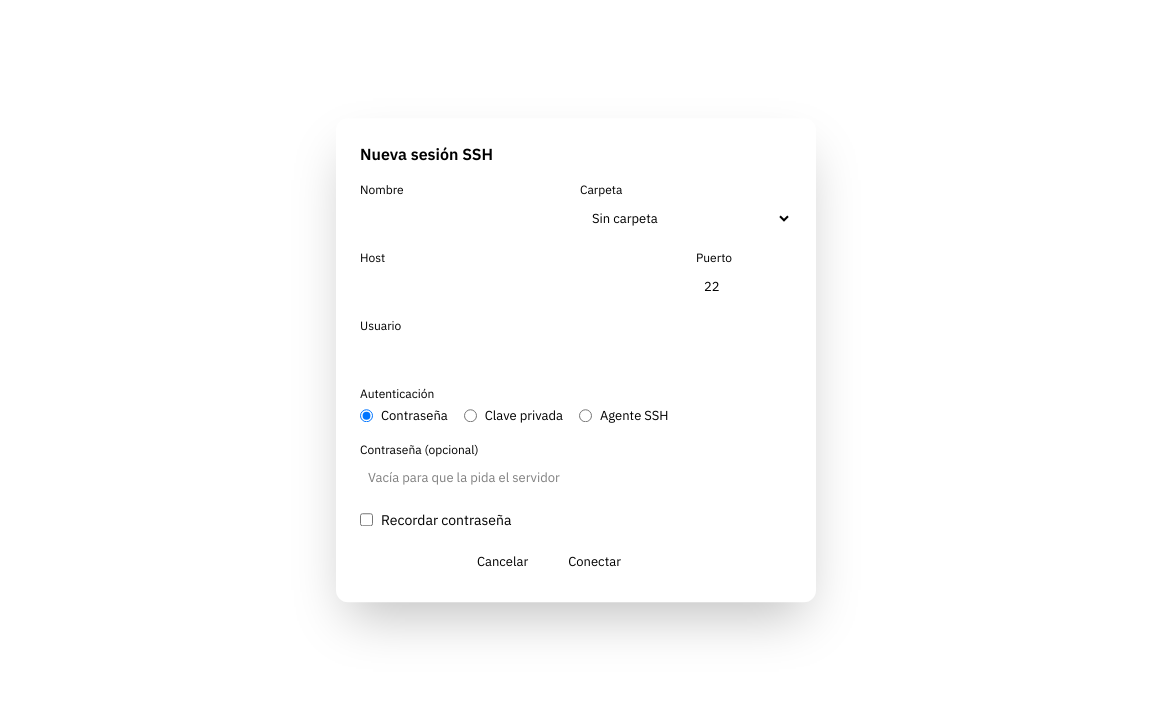
Test: ConnectDialog › shows every error and focuses the first invalid field when connecting too early
Click the button "Conectar": (595,562) [552,546,637,578]
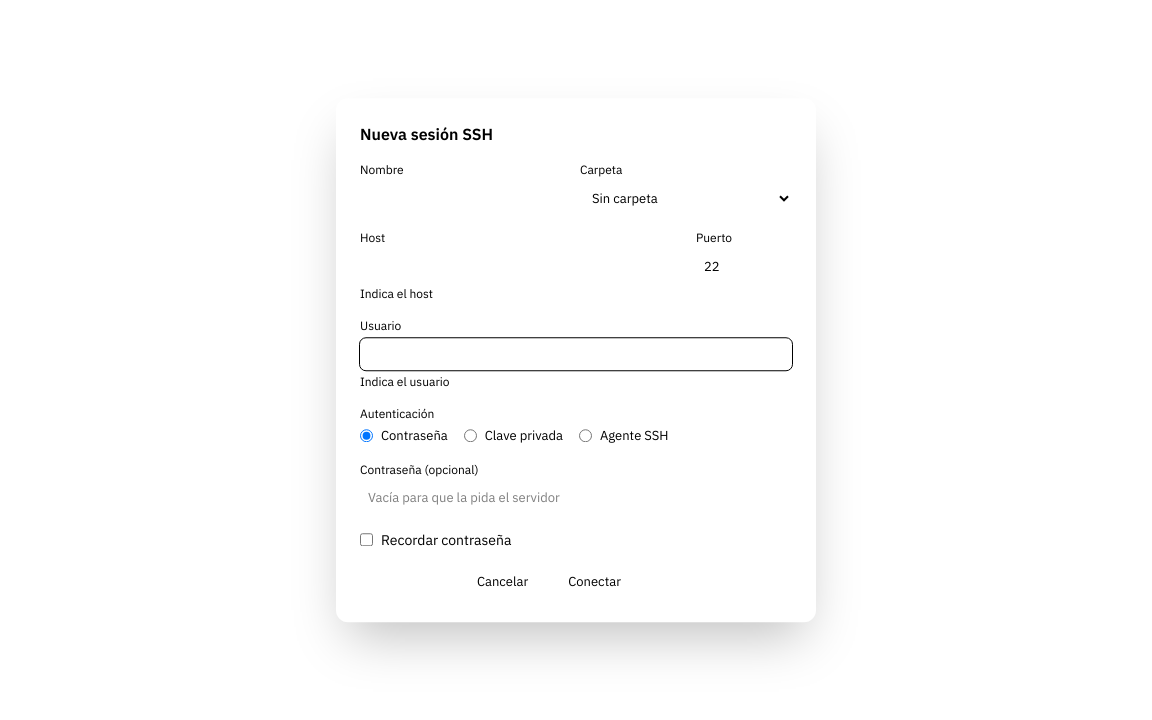
Expected: the messages read "Indica el host", "Indica el usuario", in this order, [360,286,433,301]; [360,374,450,389]
